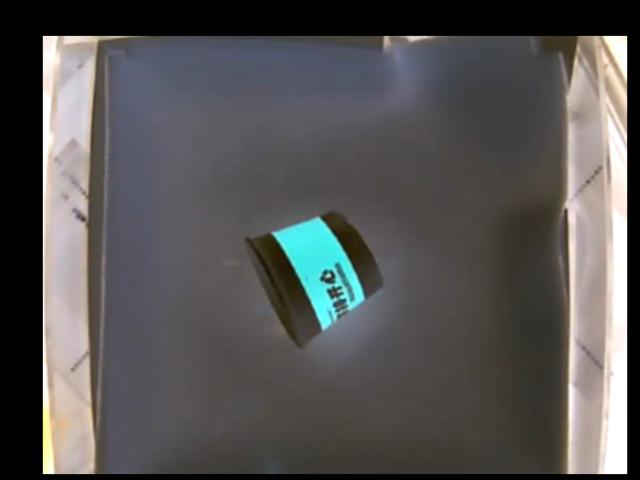Cup: (244, 207, 382, 351)
